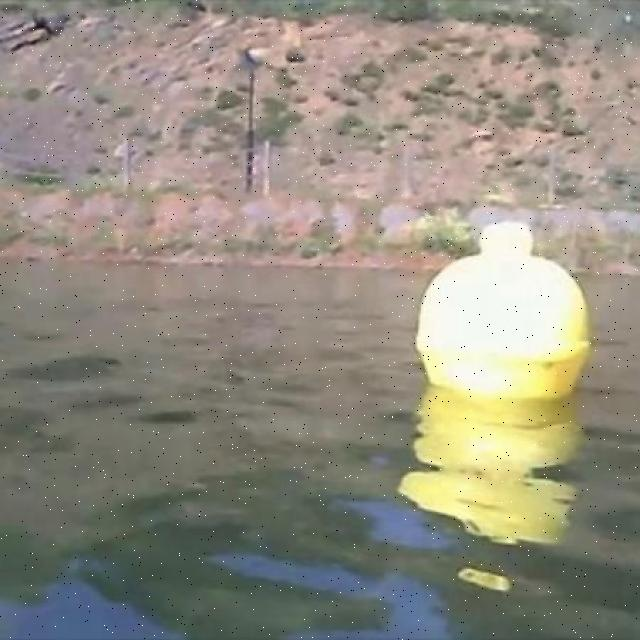buoy: (420, 225, 586, 404)
